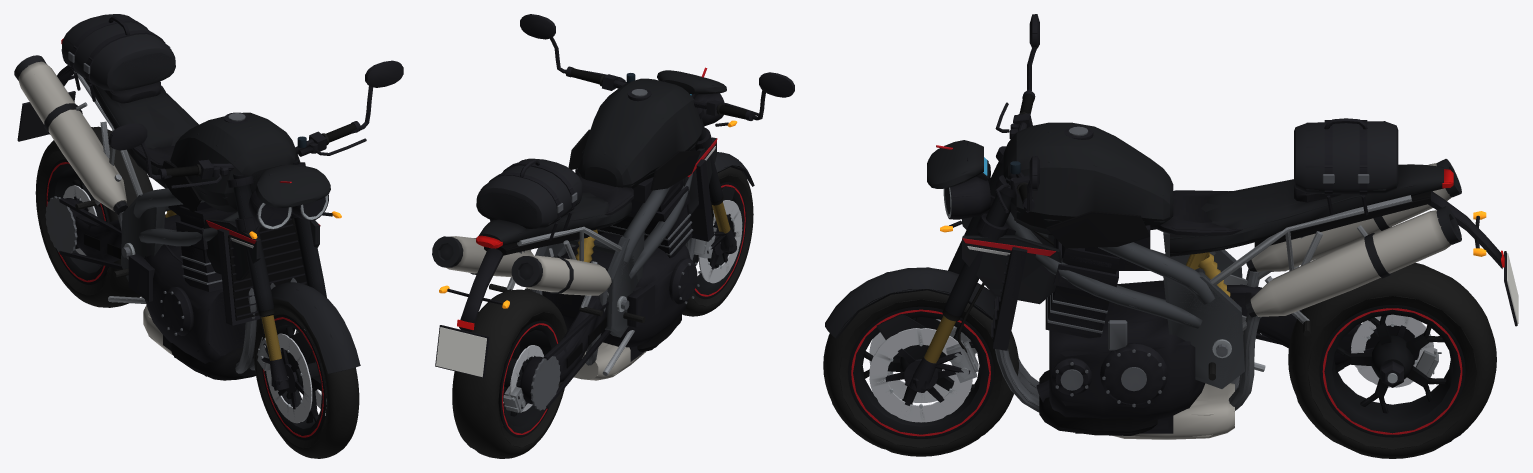
Rendered from bike02_speed_triple.glb.
The picture shows the model from 3 angles, left to right: view 1: azimuth 30°, elevation 25°; view 2: azimuth 150°, elevation 25°; view 3: azimuth 270°, elevation 25°; orthographic projection. The views are drawn at different scales.
Parts seen in each view (by area): view 1: body (×2), wheel_rear (×2), wheel_front (×2), luggage (×2), handlebar (×2), fork_left (×2), disc_front (×2), headlight (×2), fork_right; view 2: body (×2), wheel_rear (×2), luggage (×2), handlebar (×2), wheel_front (×2), fork_left (×2), disc_front (×2), disc_rear (×2), headlight; view 3: body (×2), wheel_rear (×2), wheel_front (×2), luggage, disc_front (×2), fork_right (×2), handlebar, disc_rear (×2), headlight, fork_left.
Part boxes in pixels (x1=…): body (×2): x1=14, y1=55, x2=360, y2=380; wheel_rear (×2): x1=35, y1=126, x2=152, y2=307; wheel_front (×2): x1=253, y1=298, x2=359, y2=458; luggage (×2): x1=61, y1=14, x2=175, y2=101; handlebar (×2): x1=108, y1=60, x2=403, y2=188; fork_left (×2): x1=233, y1=174, x2=289, y2=390; disc_front (×2): x1=266, y1=333, x2=326, y2=423; headlight (×2): x1=248, y1=190, x2=328, y2=230; fork_right: x1=291, y1=158, x2=326, y2=297; body (×2): x1=432, y1=67, x2=754, y2=412; wheel_rear (×2): x1=452, y1=289, x2=567, y2=458; luggage (×2): x1=476, y1=158, x2=582, y2=240; handlebar (×2): x1=520, y1=14, x2=794, y2=120; wheel_front (×2): x1=682, y1=167, x2=753, y2=316; fork_left (×2): x1=694, y1=108, x2=736, y2=258; disc_front (×2): x1=698, y1=200, x2=742, y2=283; disc_rear (×2): x1=510, y1=345, x2=543, y2=411; headlight: x1=694, y1=93, x2=724, y2=126; body (×2): x1=825, y1=122, x2=1518, y2=439; wheel_rear (×2): x1=1288, y1=263, x2=1496, y2=458; wheel_front (×2): x1=823, y1=290, x2=1018, y2=456; luggage: x1=1294, y1=118, x2=1398, y2=215; disc_front (×2): x1=869, y1=319, x2=972, y2=422; fork_right (×2): x1=909, y1=177, x2=1015, y2=392; handlebar: x1=995, y1=14, x2=1039, y2=213; disc_rear (×2): x1=1351, y1=314, x2=1433, y2=387; headlight: x1=943, y1=163, x2=990, y2=219; fork_left: x1=948, y1=162, x2=1003, y2=351.
Bounding box in the file's own units: 1.18 × 1.24 × 2.13.
